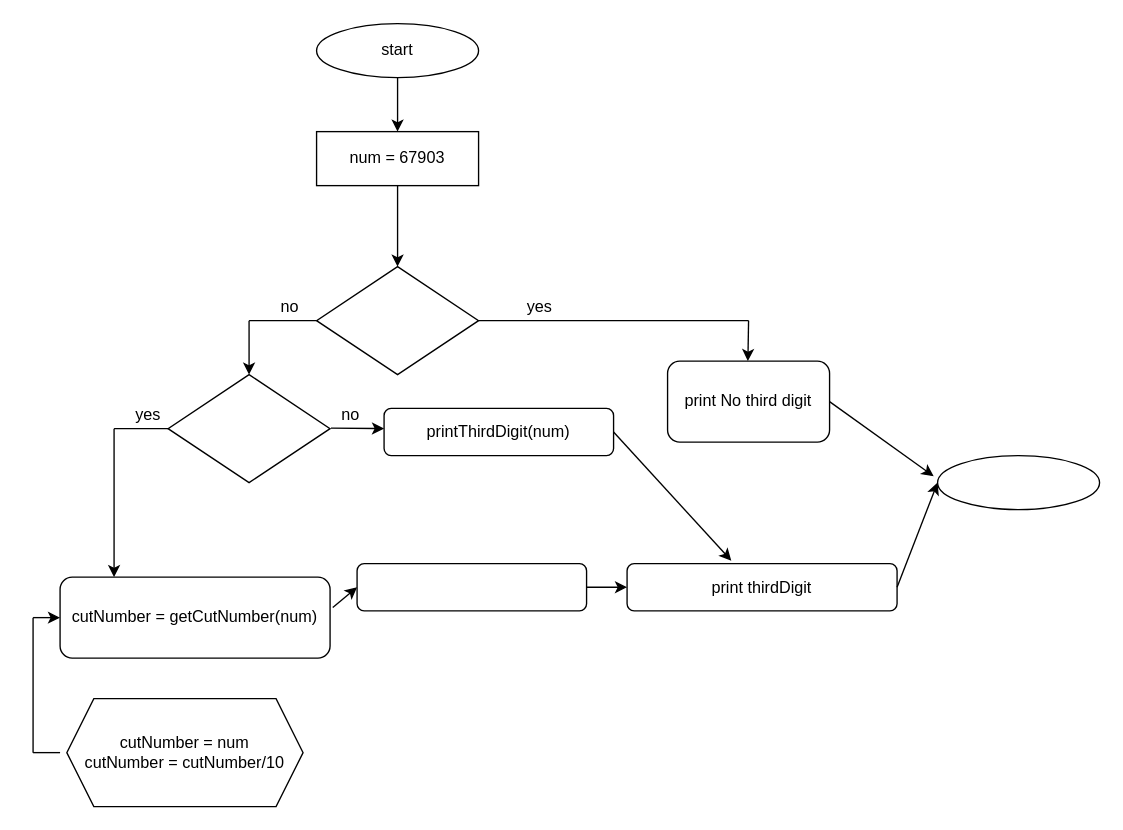
This 1123x830 diagram has some shape labels left out. Each missing label, with the box of its shape:
end: (936, 454, 1100, 510)
if num < 99: (315, 265, 479, 375)
if num >= 1000: (167, 373, 330, 483)
thirdDigit - num%10: (356, 562, 587, 611)
